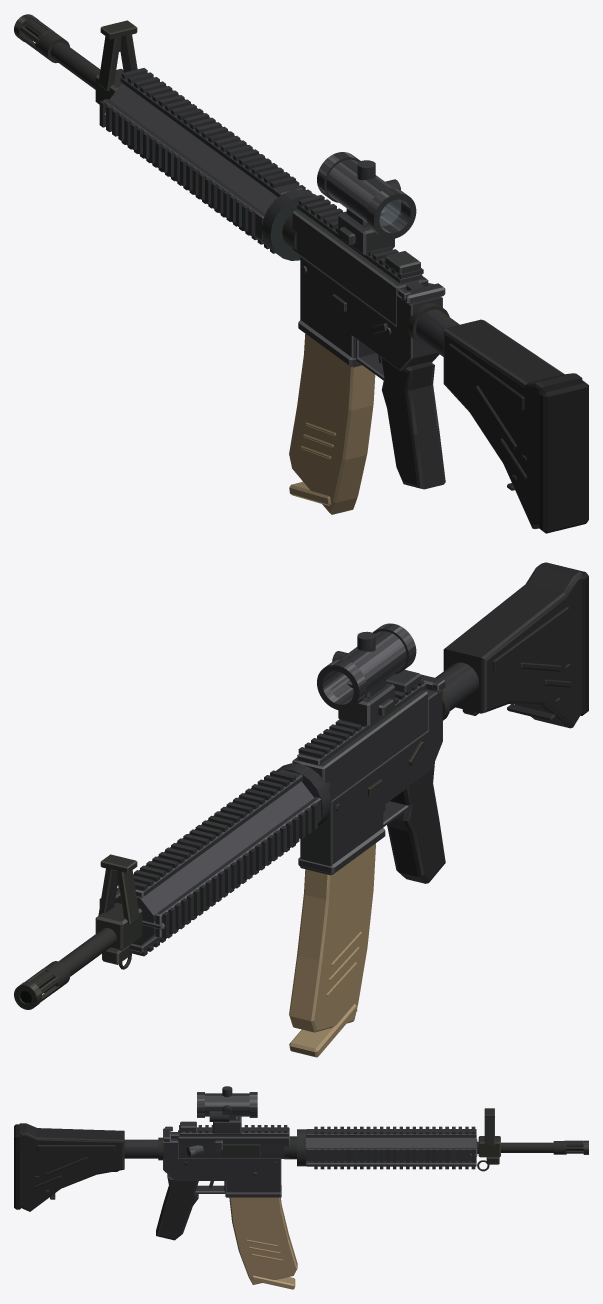
Rendered from carbine.glb.
3 views of the same model, one above another, from view 1: azimuth 30°, elevation 25°; view 2: azimuth 150°, elevation 25°; view 3: azimuth 270°, elevation 25° (orthographic). The views are drawn at different scales.
Visible parts, largest first — view 1: carbine_alu, carbine_poly, carbine_mag, carbine_steel, carbine_charge; view 2: carbine_alu, carbine_poly, carbine_mag, carbine_steel; view 3: carbine_alu, carbine_poly, carbine_mag, carbine_steel, carbine_cover.
Part boxes in pixels (left/top/right/bottom): carbine_alu: left=99, top=68, right=459, bottom=380; carbine_poly: left=381, top=319, right=588, bottom=533; carbine_mag: left=289, top=334, right=375, bottom=514; carbine_steel: left=14, top=14, right=449, bottom=363; carbine_charge: left=398, top=280, right=445, bottom=304; carbine_alu: left=99, top=623, right=478, bottom=956; carbine_poly: left=387, top=562, right=588, bottom=883; carbine_mag: left=289, top=843, right=375, bottom=1057; carbine_steel: left=14, top=690, right=450, bottom=1009; carbine_alu: left=124, top=1086, right=477, bottom=1197; carbine_poly: left=14, top=1123, right=198, bottom=1240; carbine_mag: left=229, top=1197, right=297, bottom=1289; carbine_steel: left=158, top=1108, right=588, bottom=1188; carbine_cover: left=223, top=1144, right=260, bottom=1156.
Size of the model in its own units: 0.0635 by 0.333 by 0.876.
